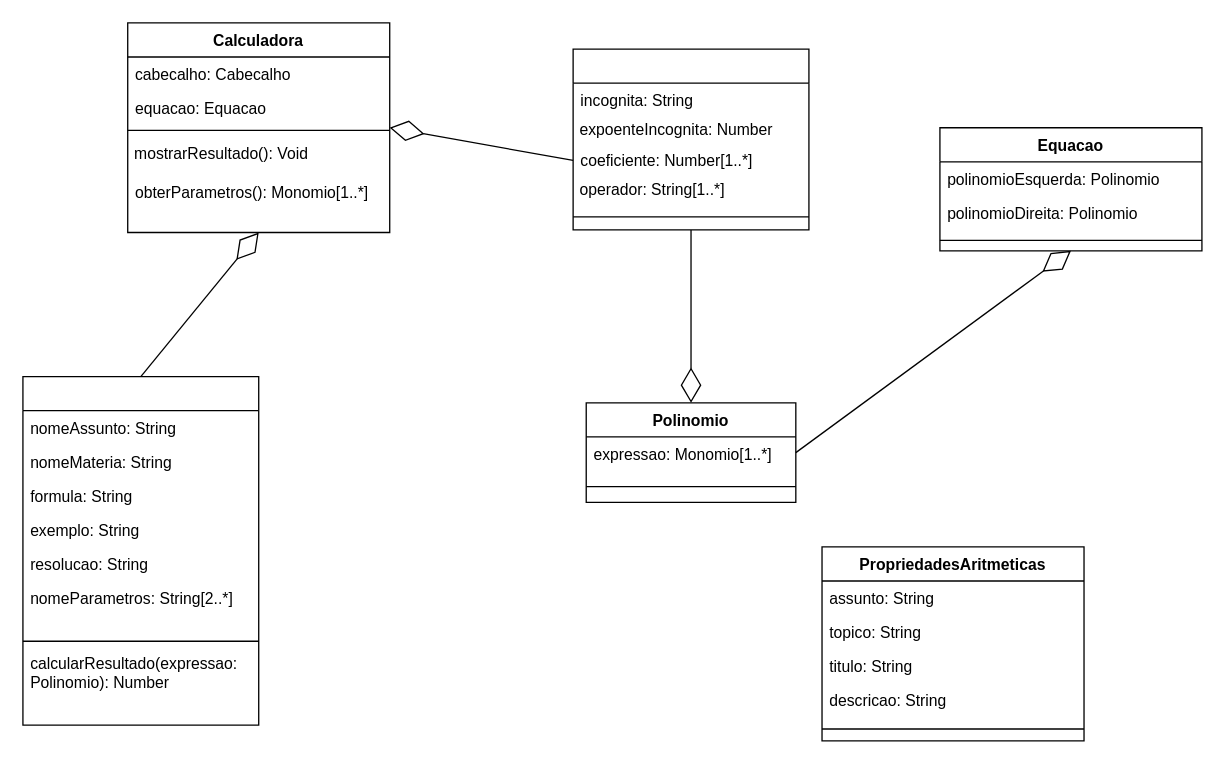
Some shapes in this 1225 by 764 pixel diagram are drawn without their labels. Each missing label, with the box of its shape:
Cabecalho: (22, 375, 259, 725)
Monomio: (572, 48, 809, 230)
